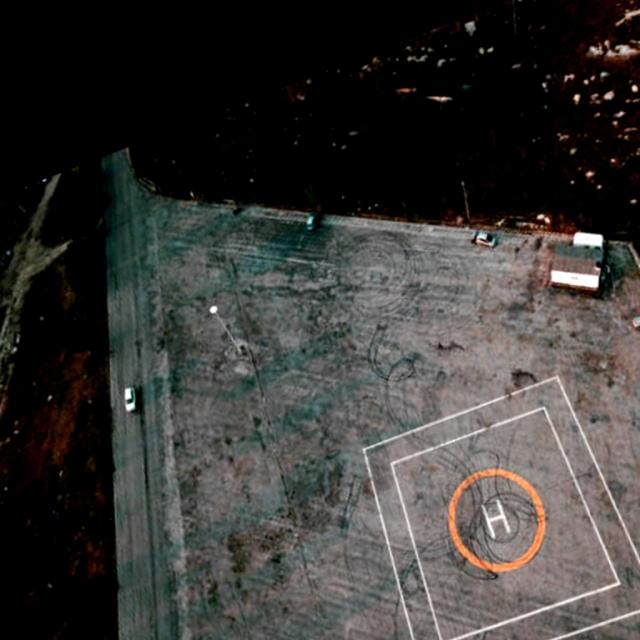helipad: (444, 466, 546, 572)
